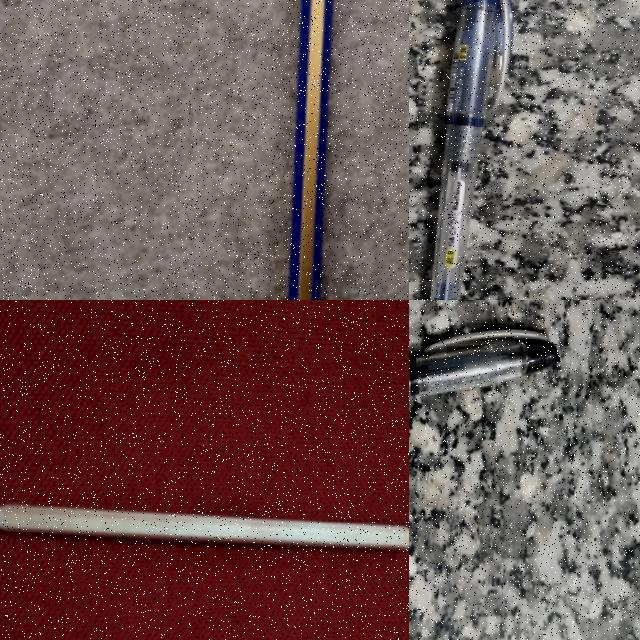pen: (431, 0, 511, 299), (409, 330, 559, 396)
pencil: (0, 505, 408, 548), (289, 0, 331, 299)
